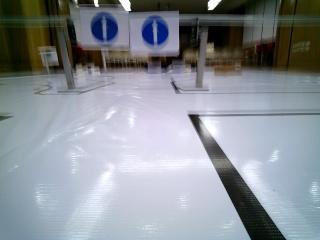straight: (126, 14, 179, 50), (81, 8, 129, 45)
